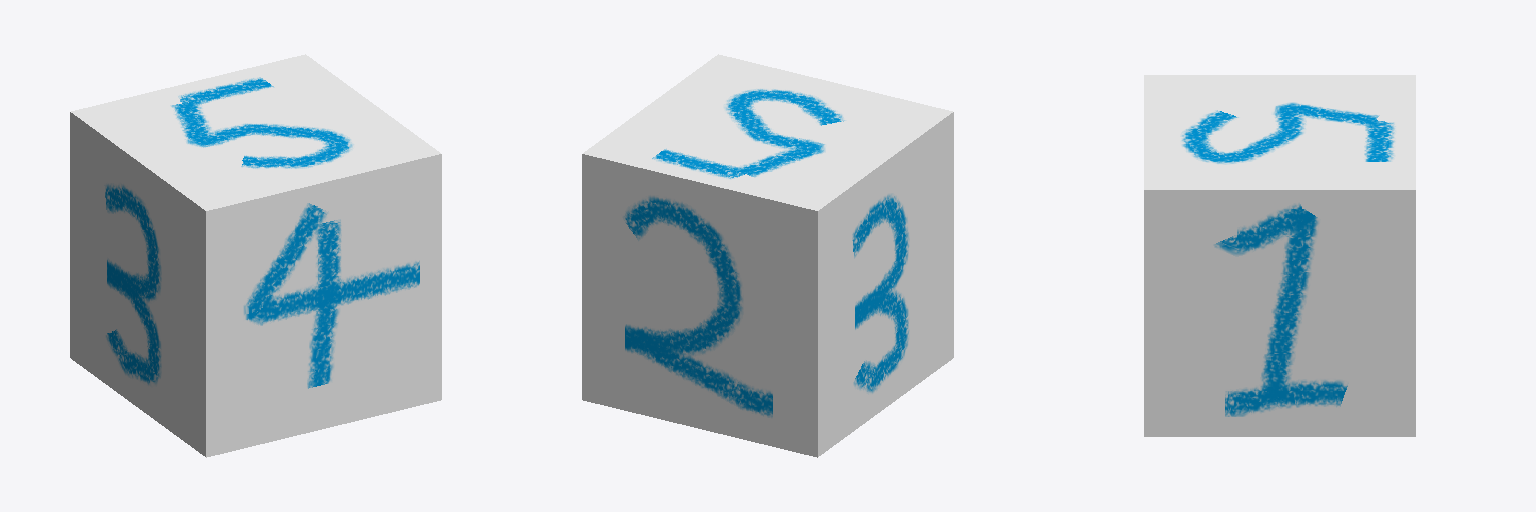
The picture shows the model from 3 angles: view 1: azimuth 30°, elevation 25°; view 2: azimuth 150°, elevation 25°; view 3: azimuth 270°, elevation 25°; orthographic projection.
Visible parts, largest first — view 1: Skybox; view 2: Skybox; view 3: Skybox.
Part boxes in pixels (bbox=[...]): Skybox: bbox=[70, 54, 441, 457]; Skybox: bbox=[582, 54, 953, 457]; Skybox: bbox=[1144, 75, 1415, 436].
Size of the model in its own units: 2000 by 2000 by 2000.
6 materials, 6 textured.